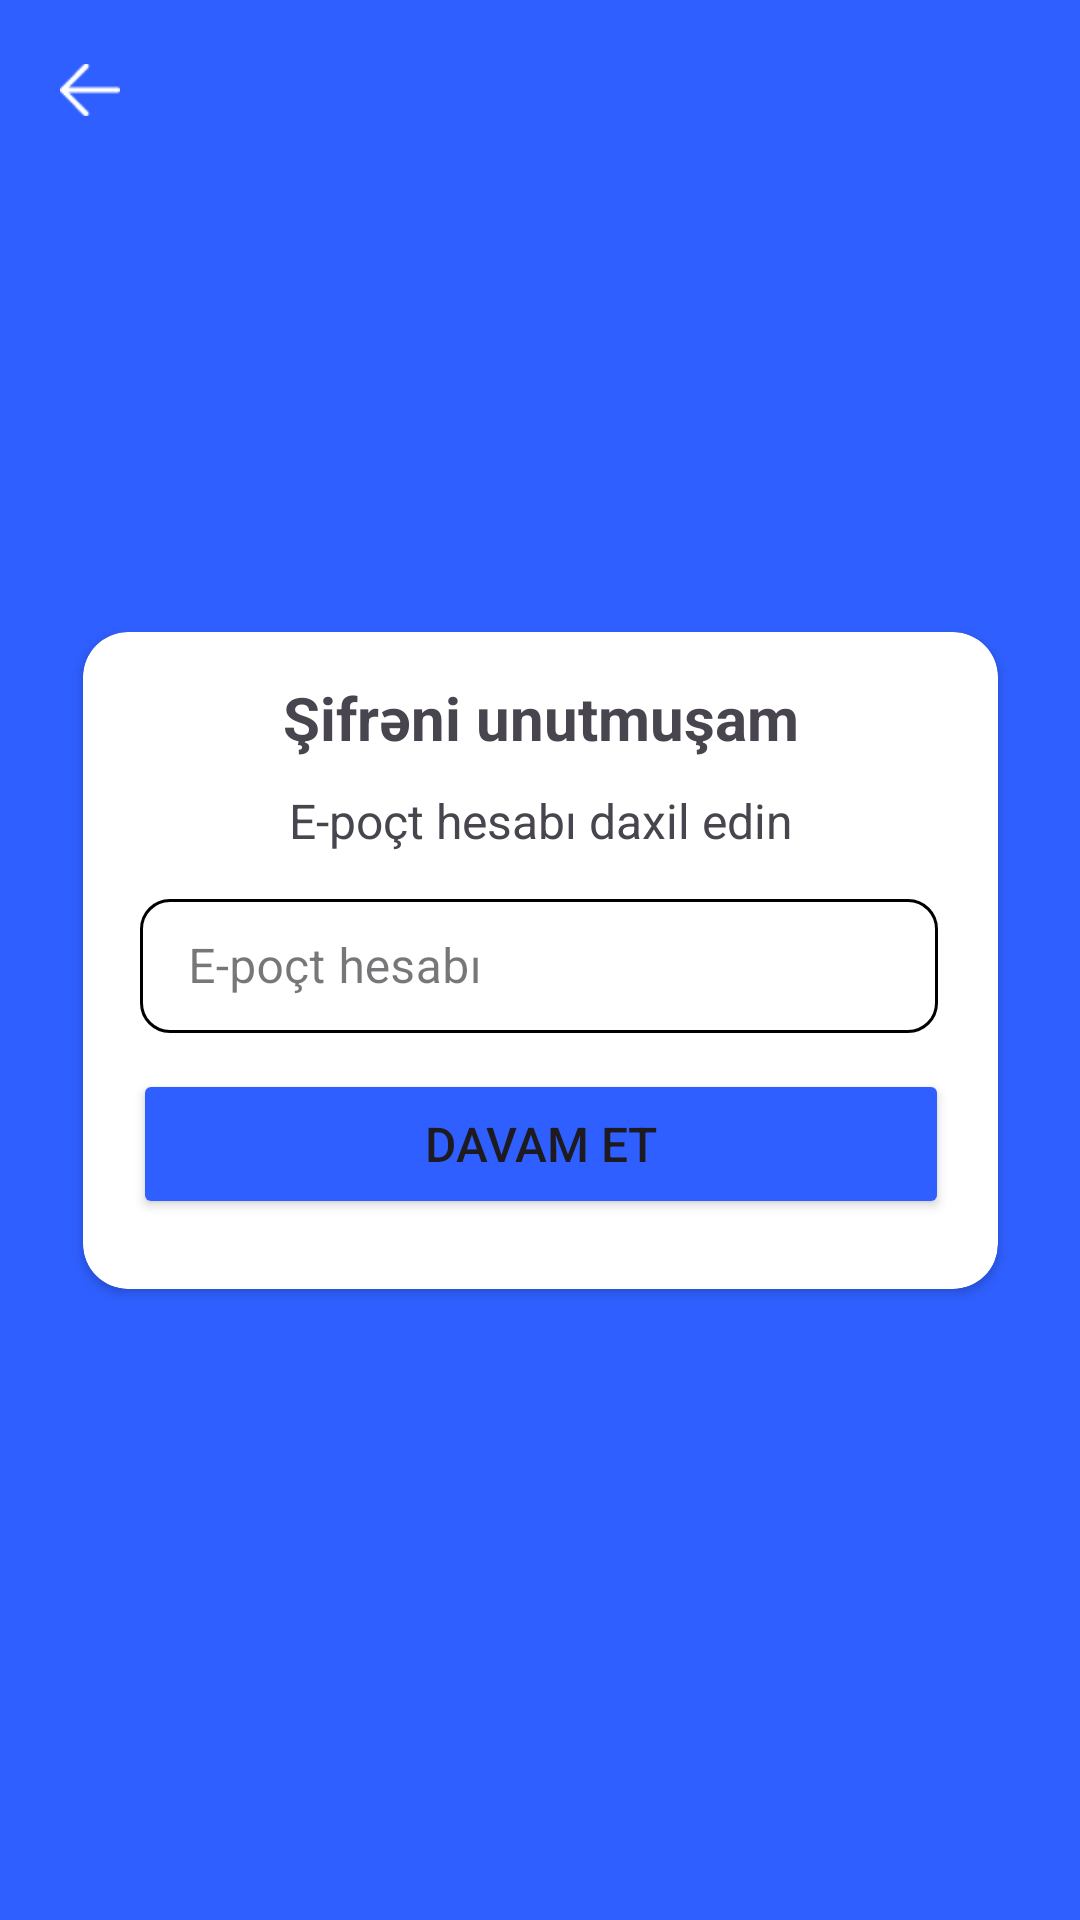

Screen size 1080x1920. Icon name, then its center in pixels as (x,y):
backarrow: (90,90)
